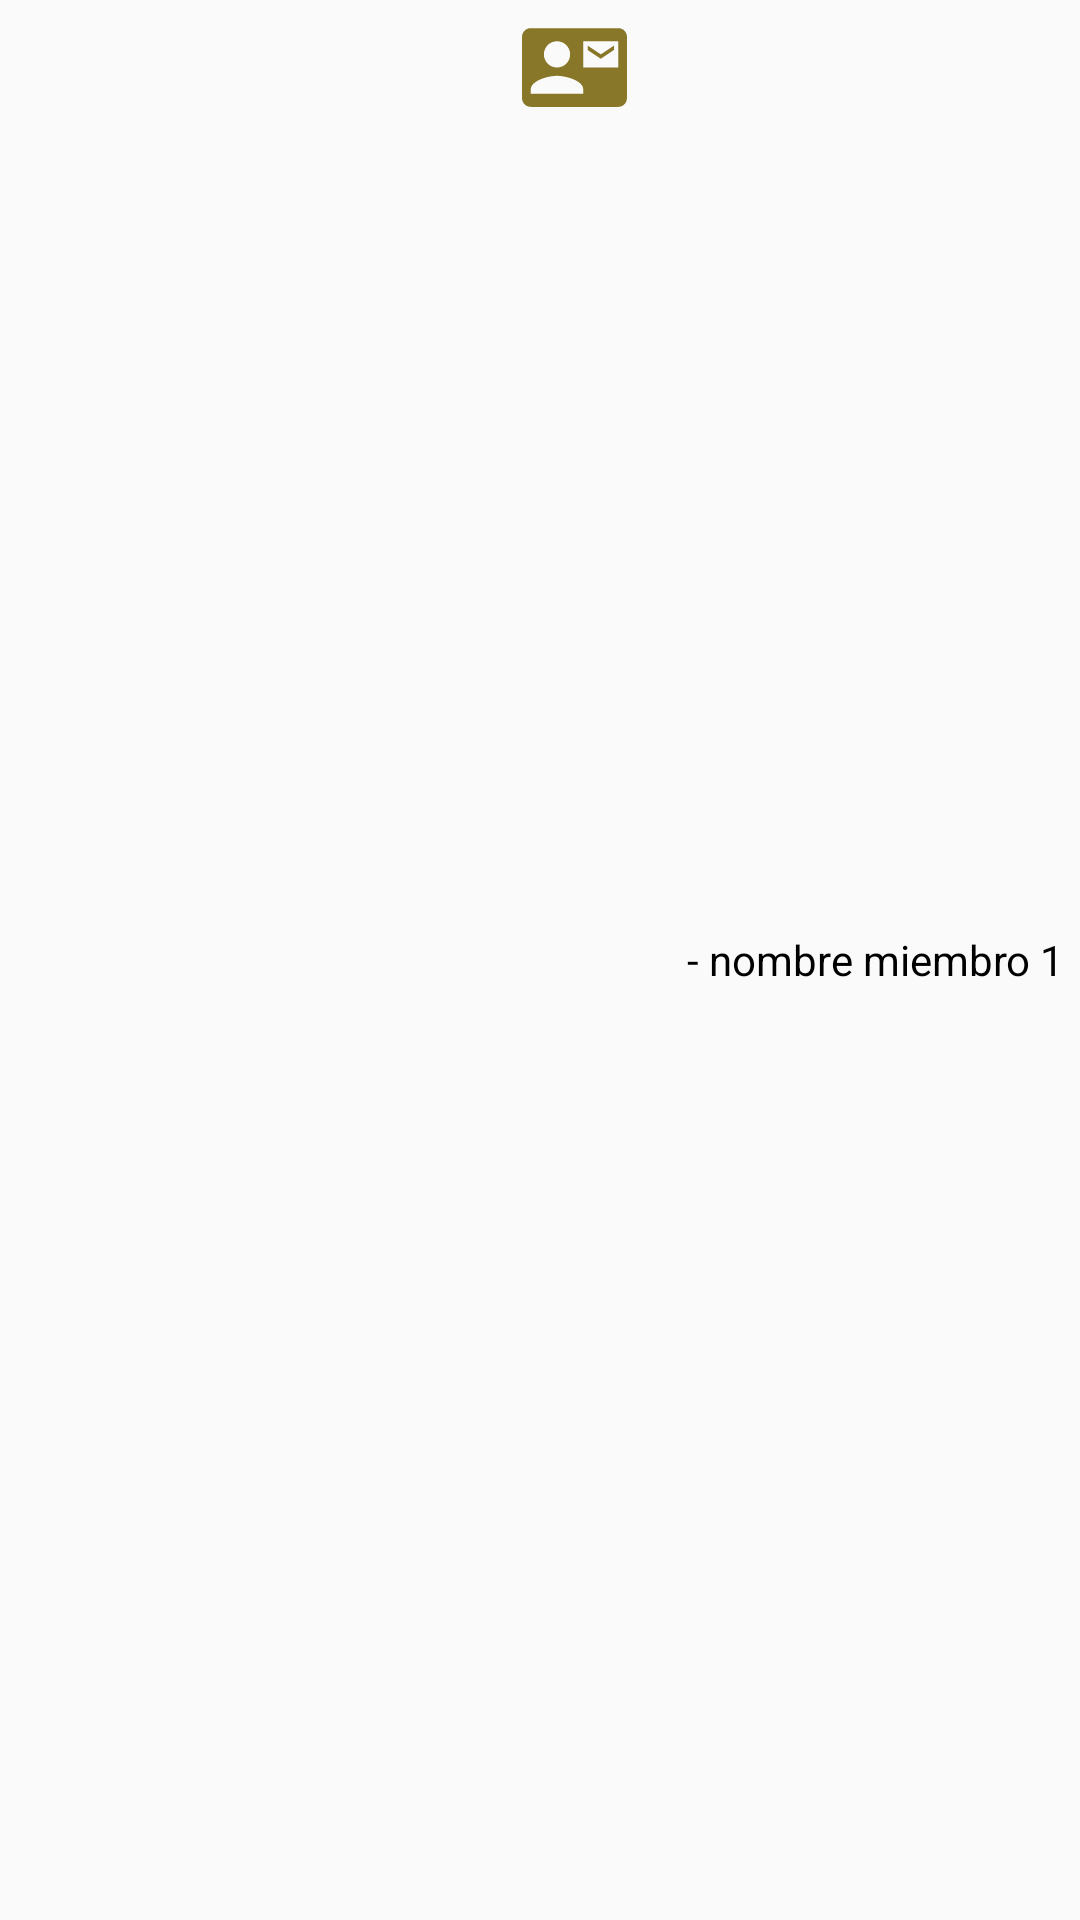

Where to tap for icons on this 1080px x 1920px app screen, as (x,y):
contacto lider: (574,67)
